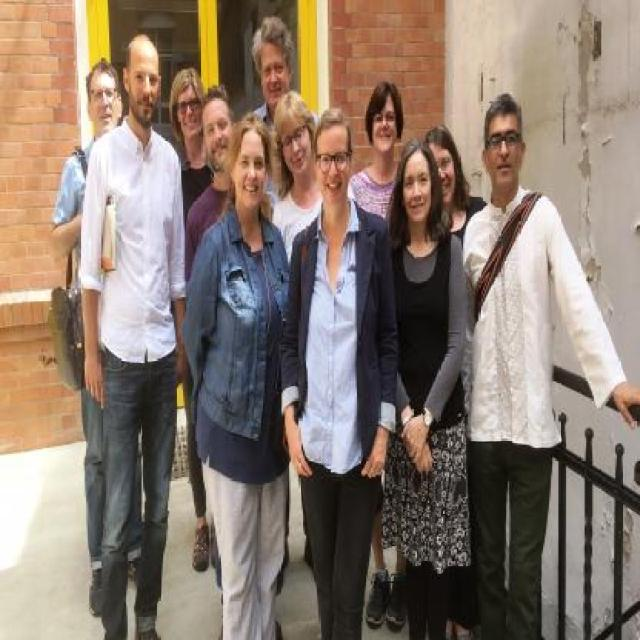sem_oculos: (312, 148, 364, 175), (473, 127, 531, 151), (82, 81, 120, 112), (274, 124, 315, 152), (166, 91, 200, 120), (395, 171, 440, 191), (255, 59, 293, 82), (236, 152, 272, 171), (133, 72, 165, 92), (368, 111, 400, 129), (203, 122, 234, 140), (438, 150, 453, 171)
